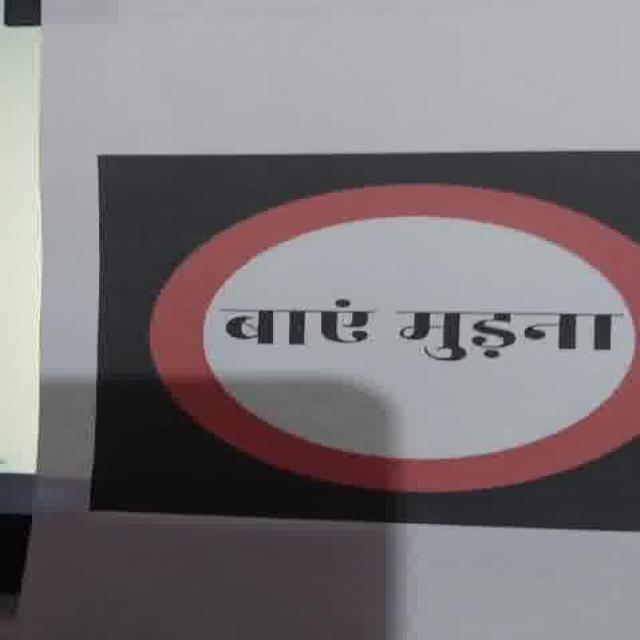hindileft: (219, 294, 633, 370), (230, 293, 387, 364)
